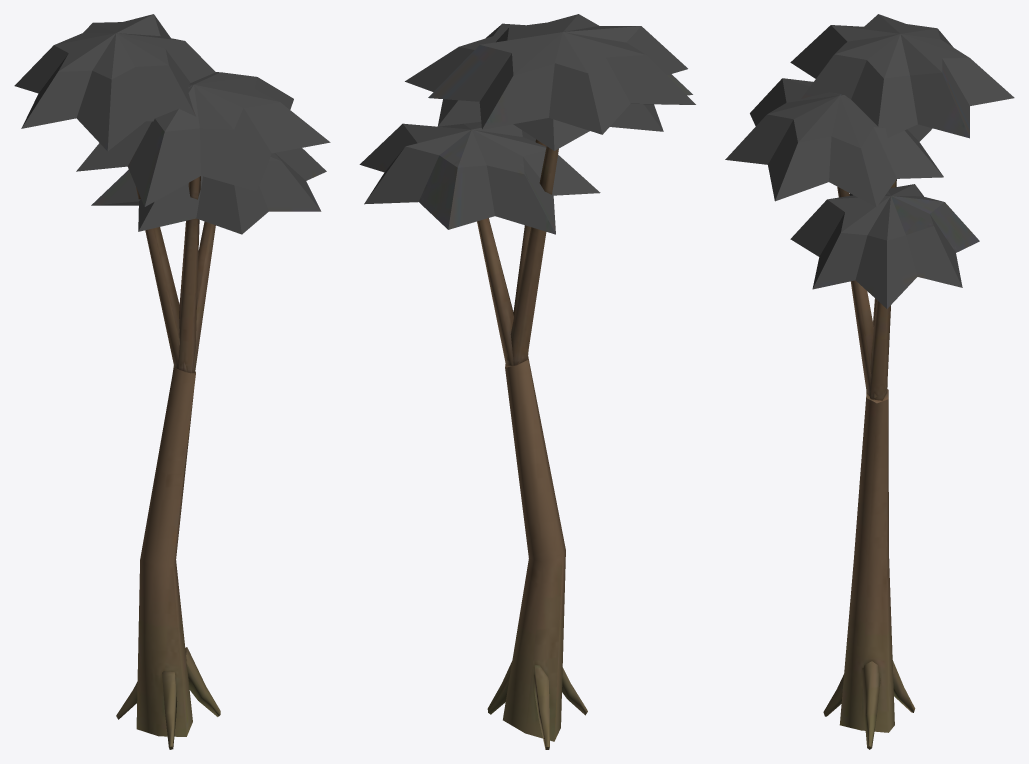
The model's file is arv_acacia_3.glb.
The picture shows the model from 3 angles, left to right: view 1: azimuth 30°, elevation 25°; view 2: azimuth 150°, elevation 25°; view 3: azimuth 270°, elevation 25°; orthographic projection. The views are drawn at different scales.
Parts seen in each view (by area): view 1: arv_acacia_3_corpo; view 2: arv_acacia_3_corpo; view 3: arv_acacia_3_corpo.
Boxes of the visible parts, x1,y1,x2,y2 form: arv_acacia_3_corpo: [14, 14, 330, 749]; arv_acacia_3_corpo: [359, 14, 695, 749]; arv_acacia_3_corpo: [725, 14, 1014, 749].
Bounding box in the file's own units: 0.9218 × 1.94 × 0.7517.
1 material, 1 textured.
